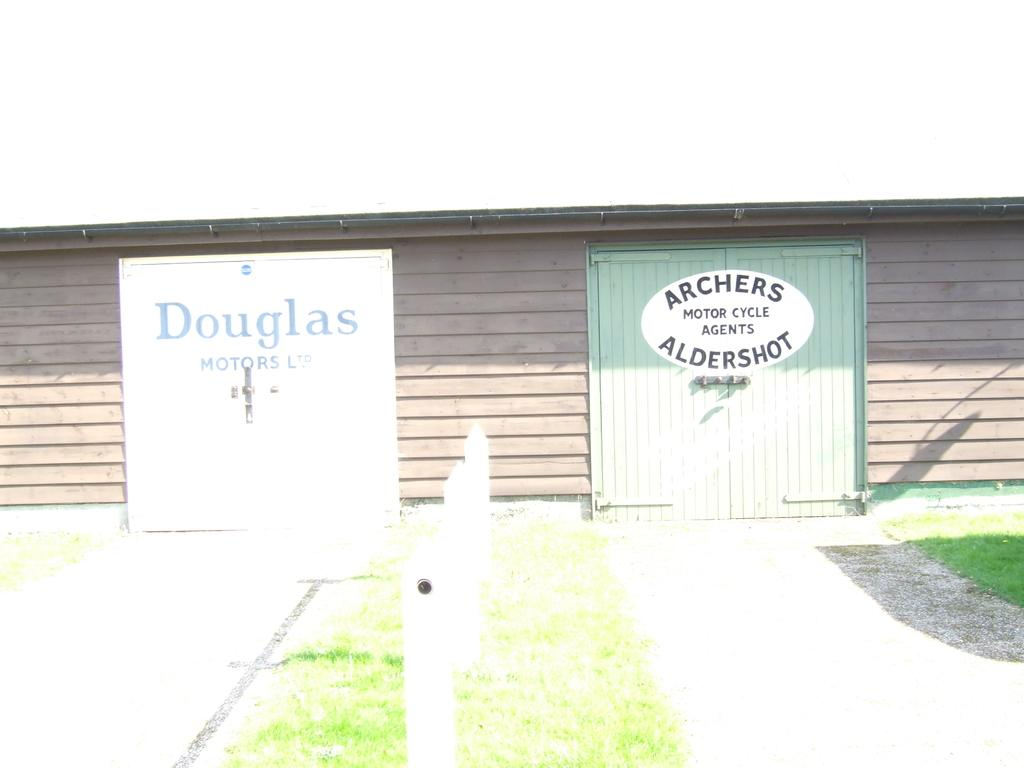handle: (238, 374, 262, 424), (692, 372, 747, 392)
